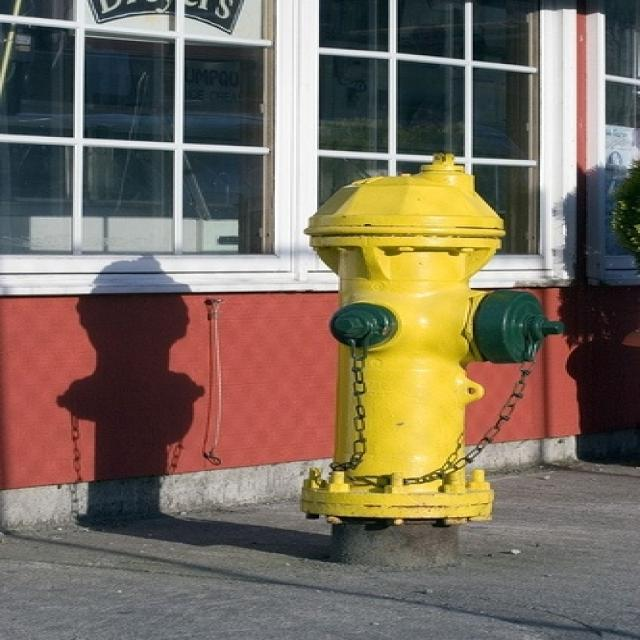fire_hydrant: (263, 141, 562, 543)
